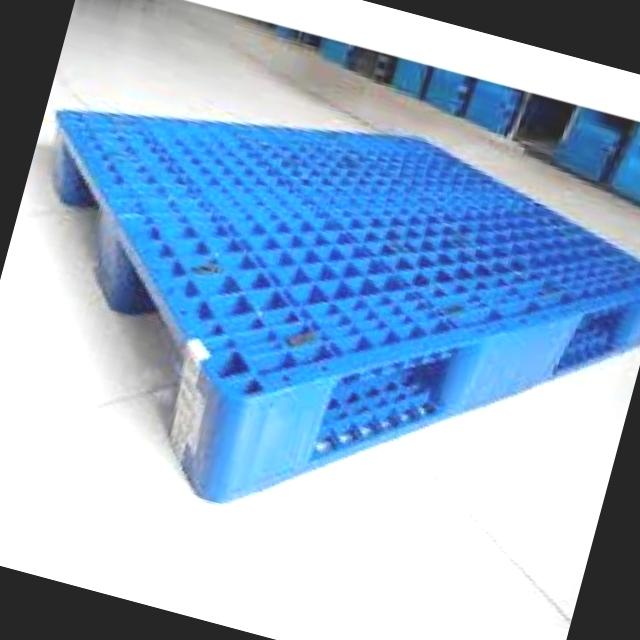pallet: (0, 39, 640, 606)
